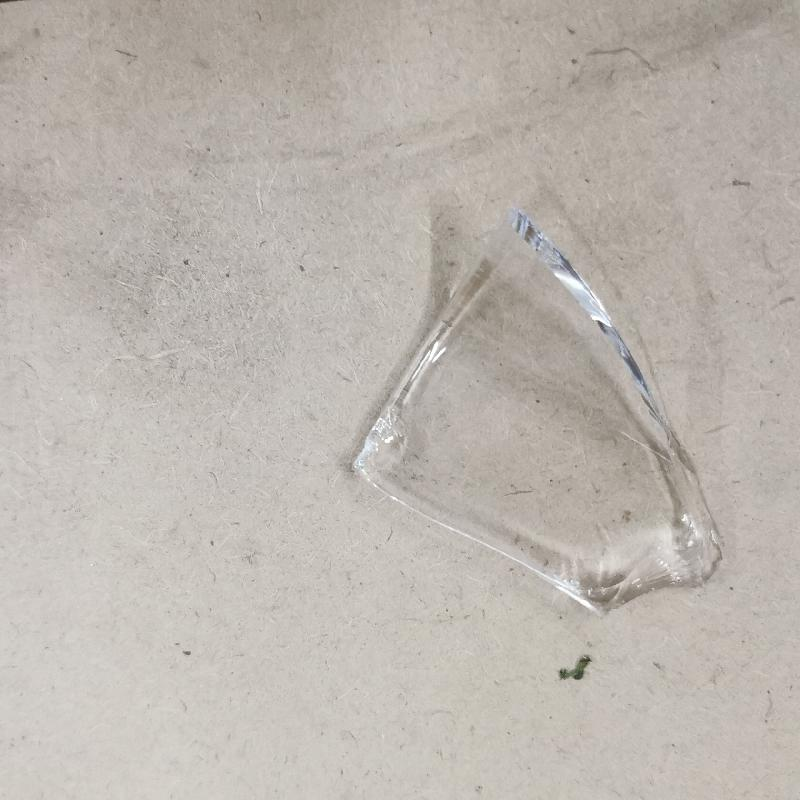glass: (346, 208, 725, 613)
